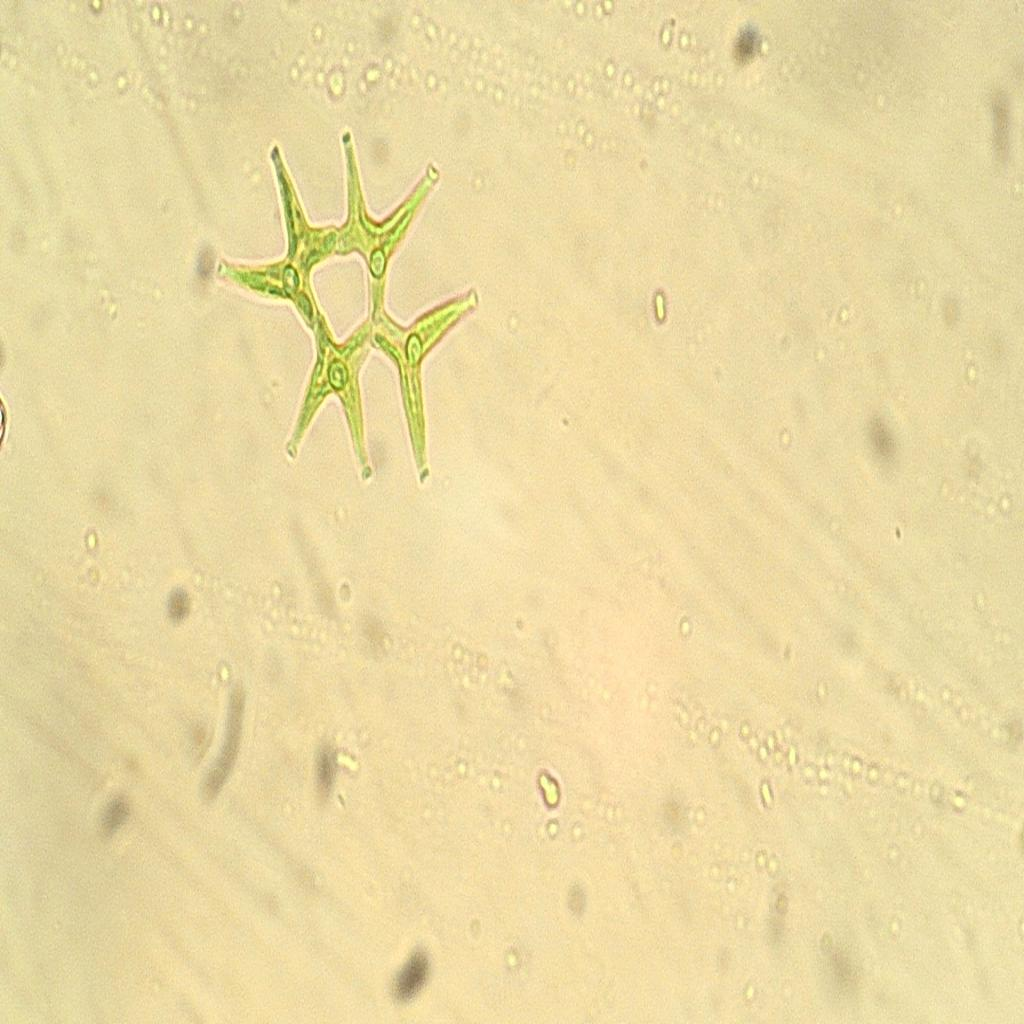Pediastrum_75FI: (213, 102, 485, 522)
